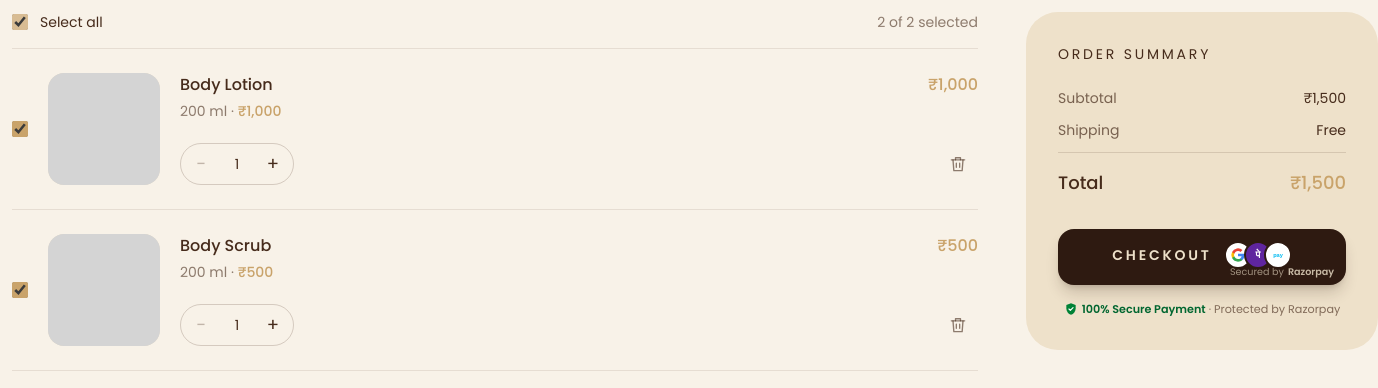
CartView › Select all ticks everything again
Click the checkbox named "Select Body Lotion for checkout" at point(20, 129), box x1=12 y1=121 x2=28 y2=137
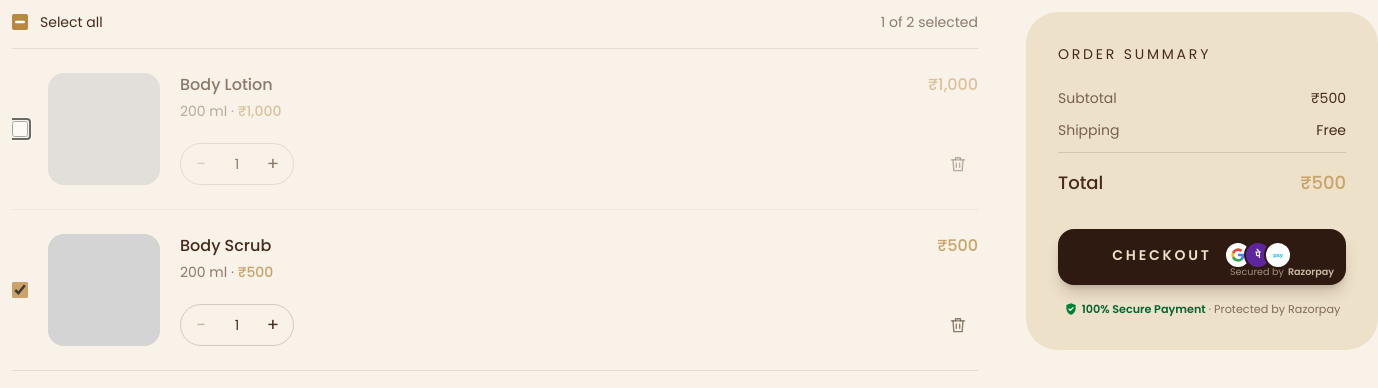
Click the checkbox labelled "Select all" at point(20, 22), box x1=12 y1=14 x2=28 y2=30
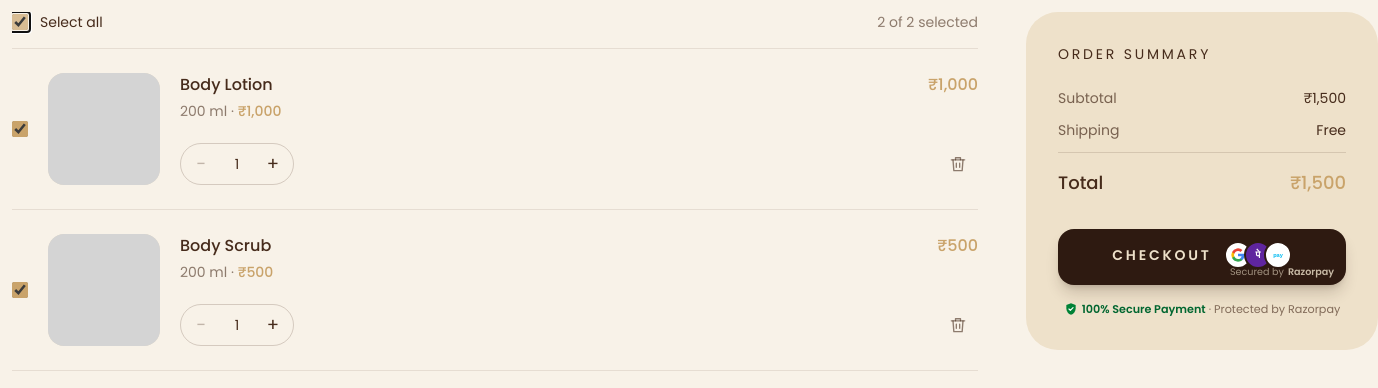
Check: the checkbox named "Select Body Lotion for checkout" is checked, box x1=12 y1=121 x2=28 y2=137
Check: the 2nd text "₹1,500" is shown, box x1=1290 y1=169 x2=1346 y2=197
